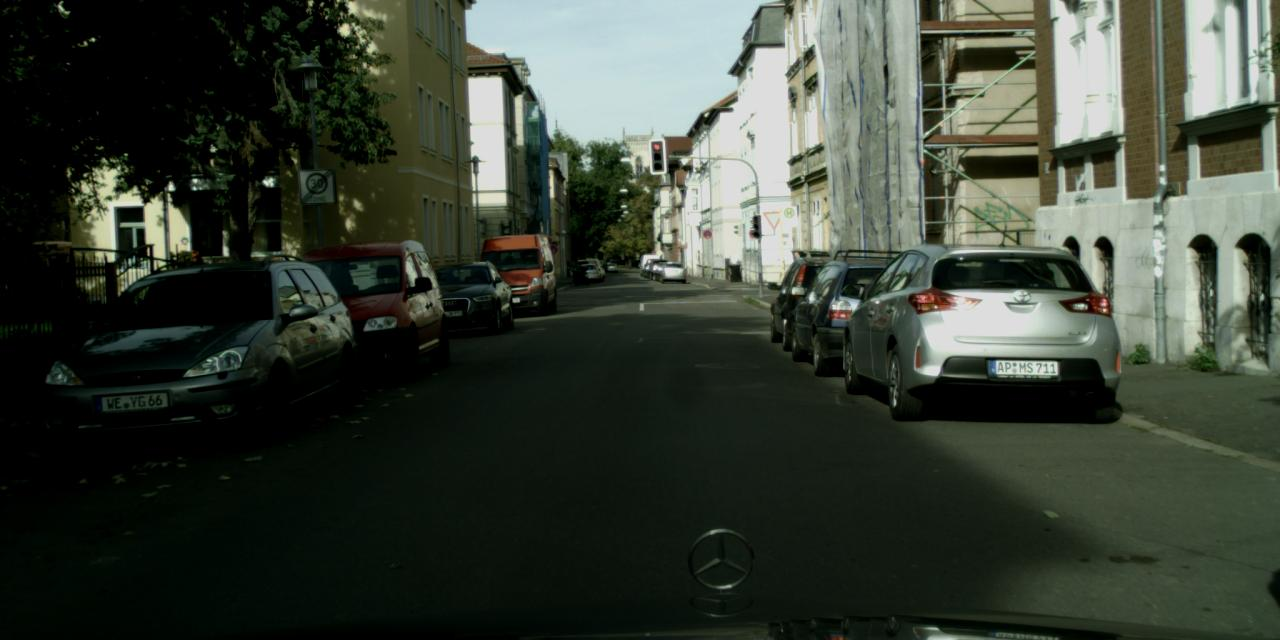ped: (790, 252, 809, 298)
